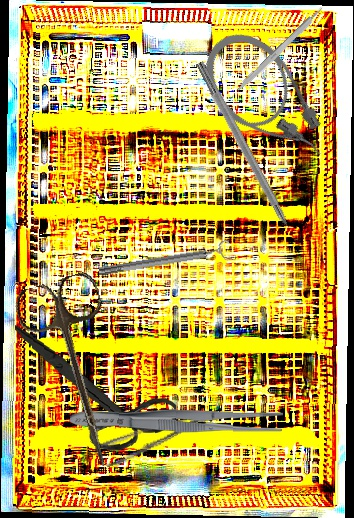Cannula: (186, 16, 343, 187)
Dressing Forceps: (99, 407, 225, 470), (69, 405, 283, 436)
Fixation Ring: (97, 238, 232, 282)
Hook Surgical: (193, 60, 303, 252)
Iris Scissors: (11, 269, 148, 477), (5, 322, 182, 458)
Scalpel Handle: (234, 5, 327, 95)
